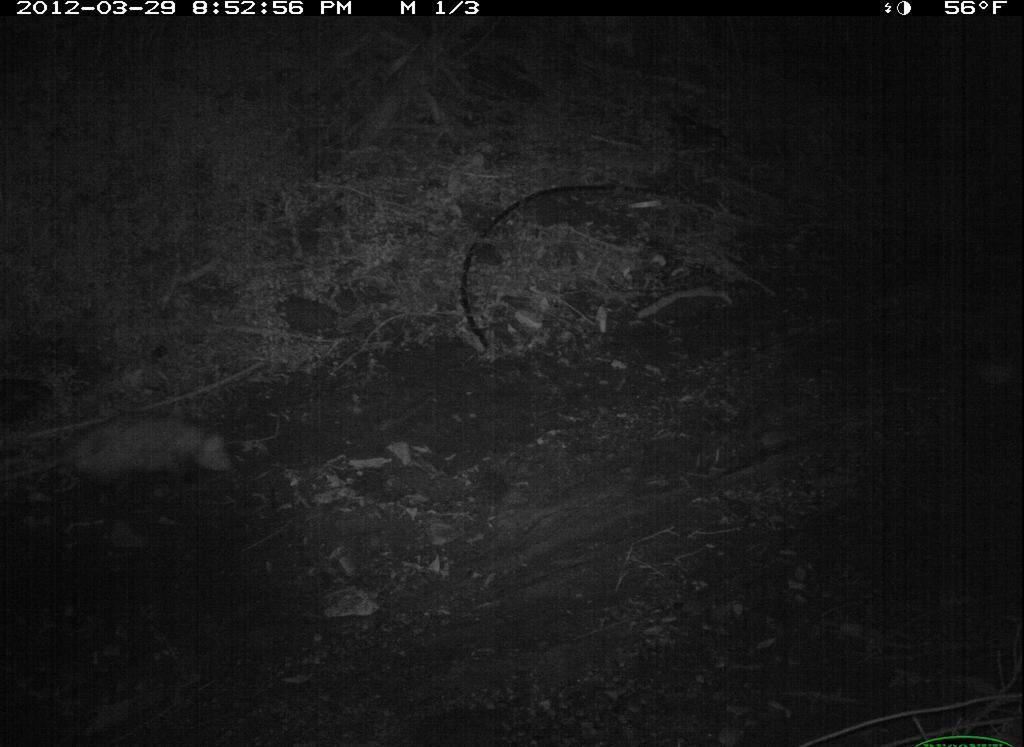opossum: (7, 404, 244, 510)
